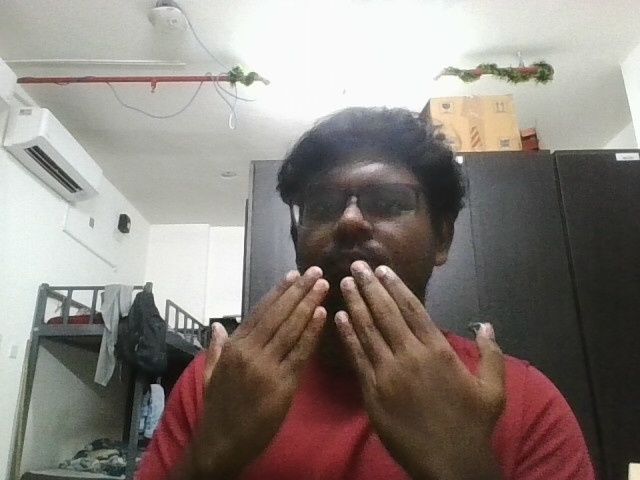Thanks: (176, 251, 537, 480)
